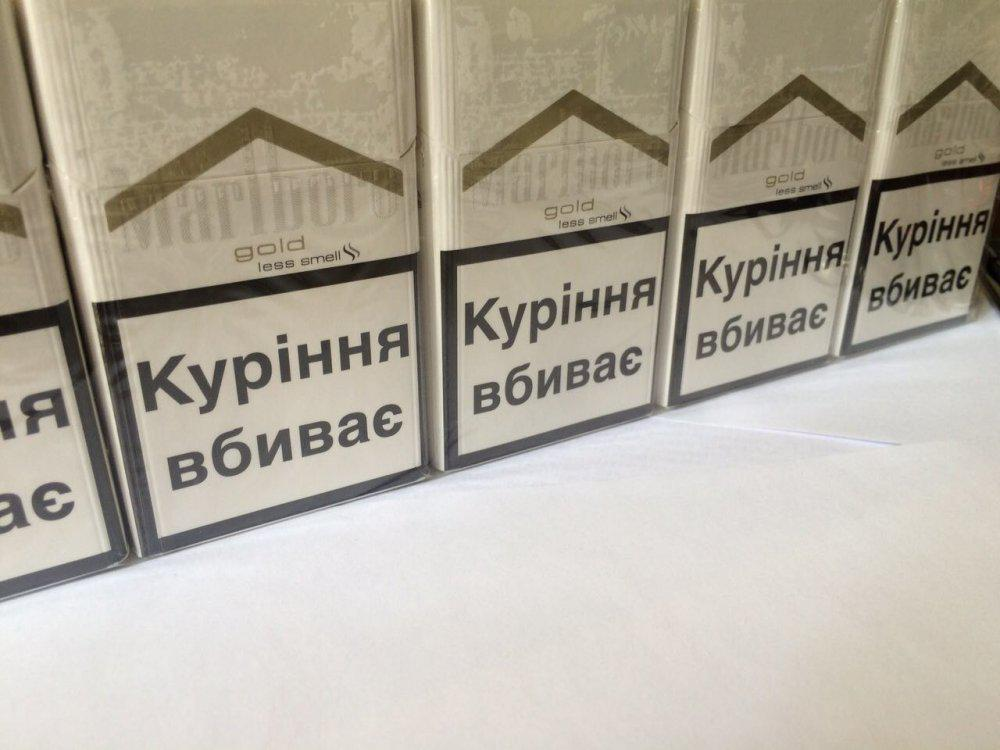marlboro_gold: (58, 2, 426, 483), (426, 1, 675, 415), (682, 6, 870, 357), (877, 1, 1000, 336)
